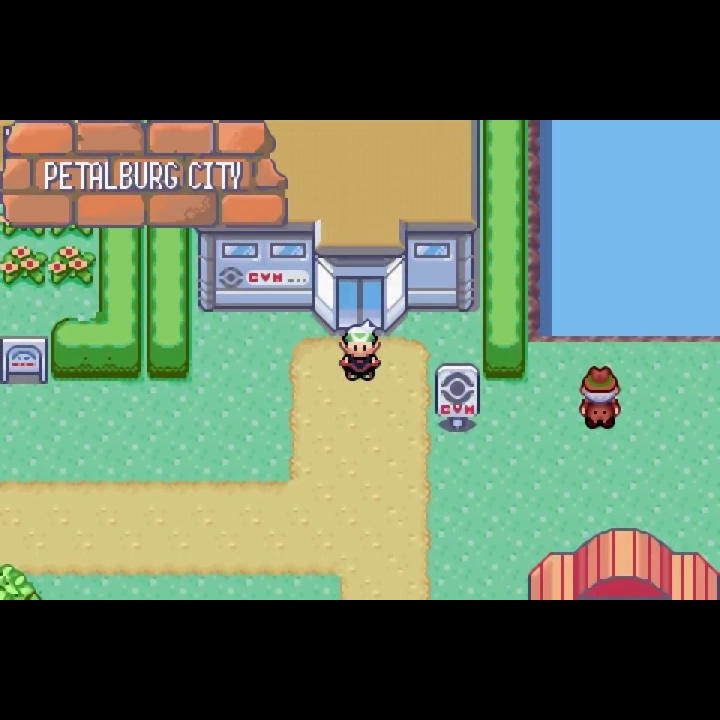gym: (194, 121, 482, 335)
npc: (575, 362, 623, 434), (339, 318, 384, 388)
pokecen: (523, 525, 720, 600)
wall: (1, 562, 45, 600)
